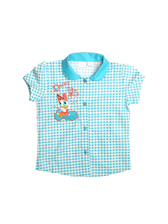clothoes: (22, 50, 145, 176)
